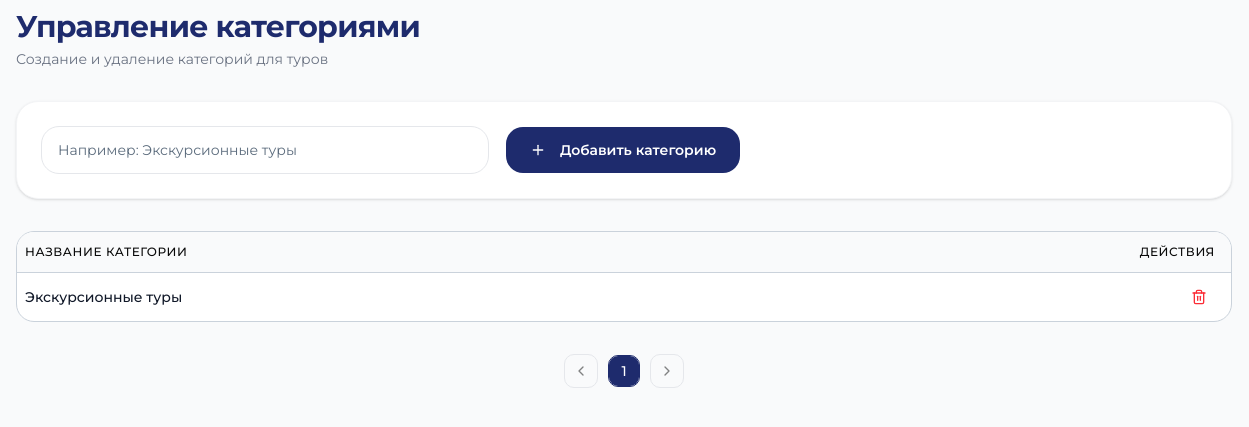
Test: CategoriesManagePage Component › показывает ошибку валидации при попытке отправить пустую форму
Click the button "Добавить категорию". click: [623, 150]
box: [505,126,741,174]
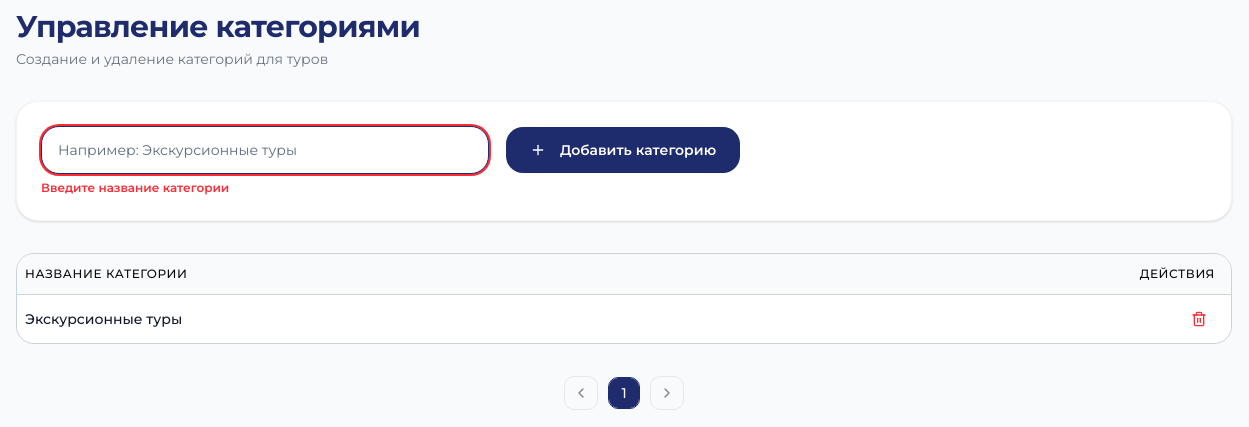
Expected: the text "Введите название категории" is shown, [41,180,229,195]
